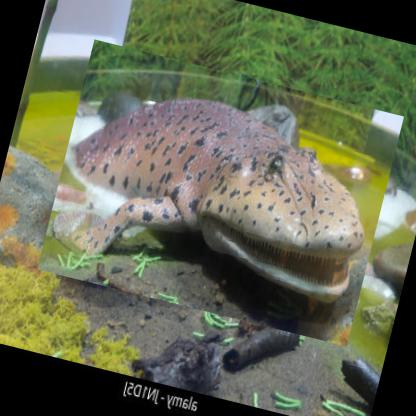zebra_shark: (36, 40, 404, 348)
